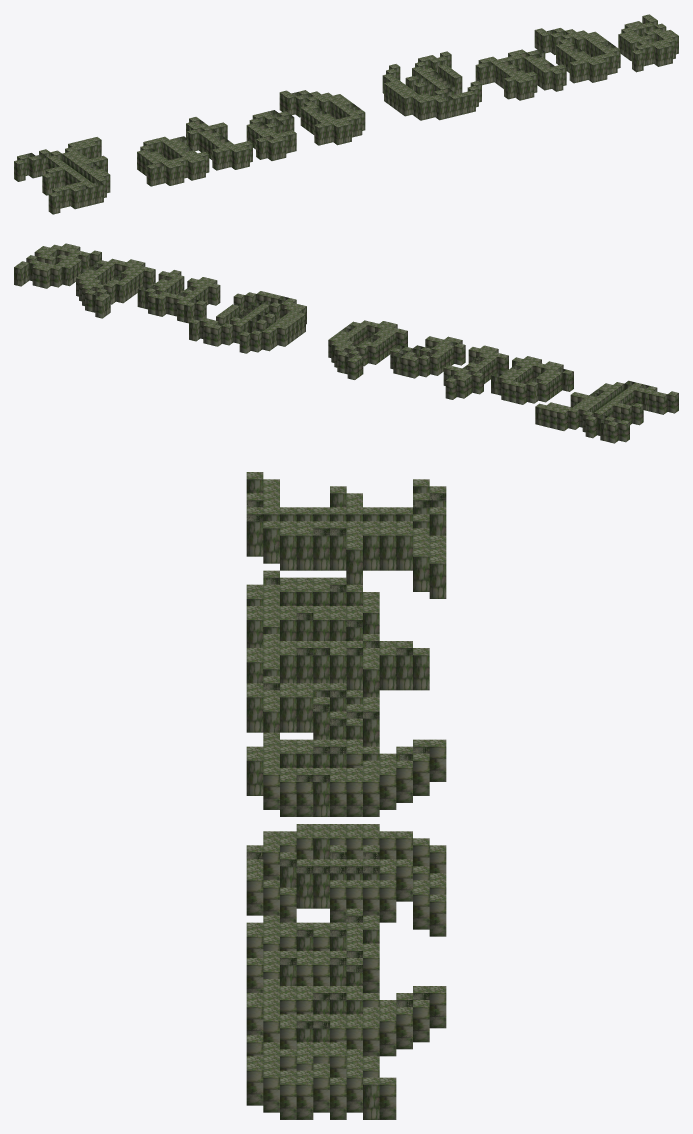
The picture shows the model from 3 angles, top to bottom: view 1: azimuth 30°, elevation 25°; view 2: azimuth 150°, elevation 25°; view 3: azimuth 270°, elevation 25°; orthographic projection. The views are drawn at different scales.
Visible parts, largest first — view 1: asdasdasdasd; view 2: asdasdasdasd; view 3: asdasdasdasd.
Boxes of the visible parts, bbox=[...] form: asdasdasdasd: bbox=[14, 14, 678, 214]; asdasdasdasd: bbox=[14, 243, 678, 443]; asdasdasdasd: bbox=[246, 472, 446, 1119].
Bounding box in the file's own units: 11.19 × 0.3 × 1.54.
Materials: 1 (1 with a texture image).
